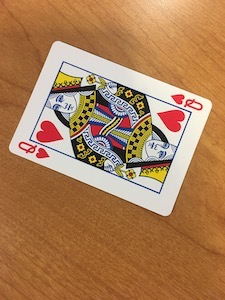QueenOfHearts: (7, 39, 214, 219)
